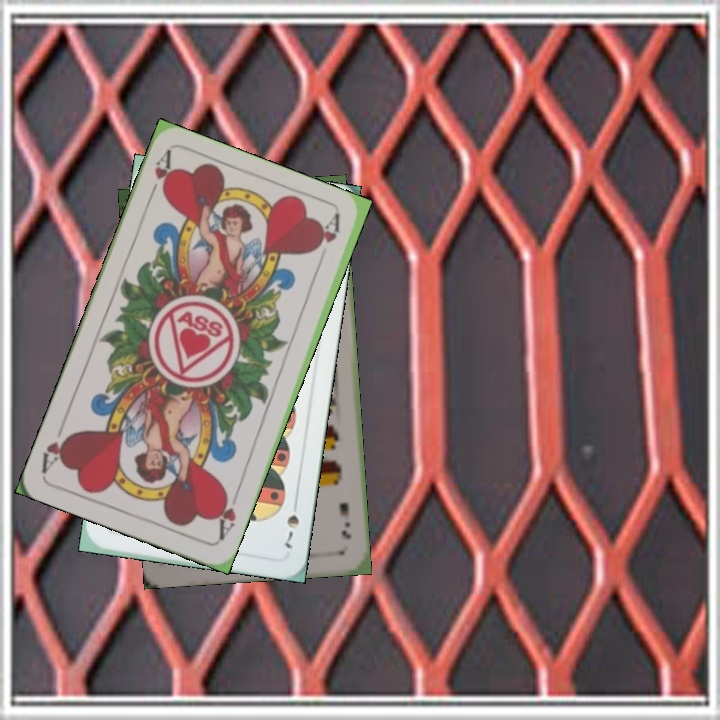E7: (336, 499, 353, 541)
HA: (144, 147, 176, 205), (212, 486, 241, 544)
S7: (278, 495, 302, 551)
